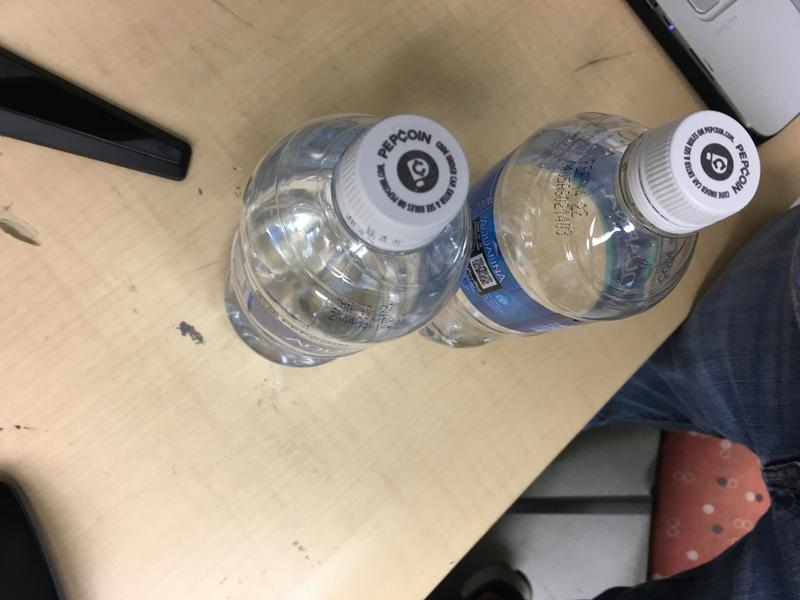bottle: (416, 110, 765, 350), (223, 113, 475, 369)
